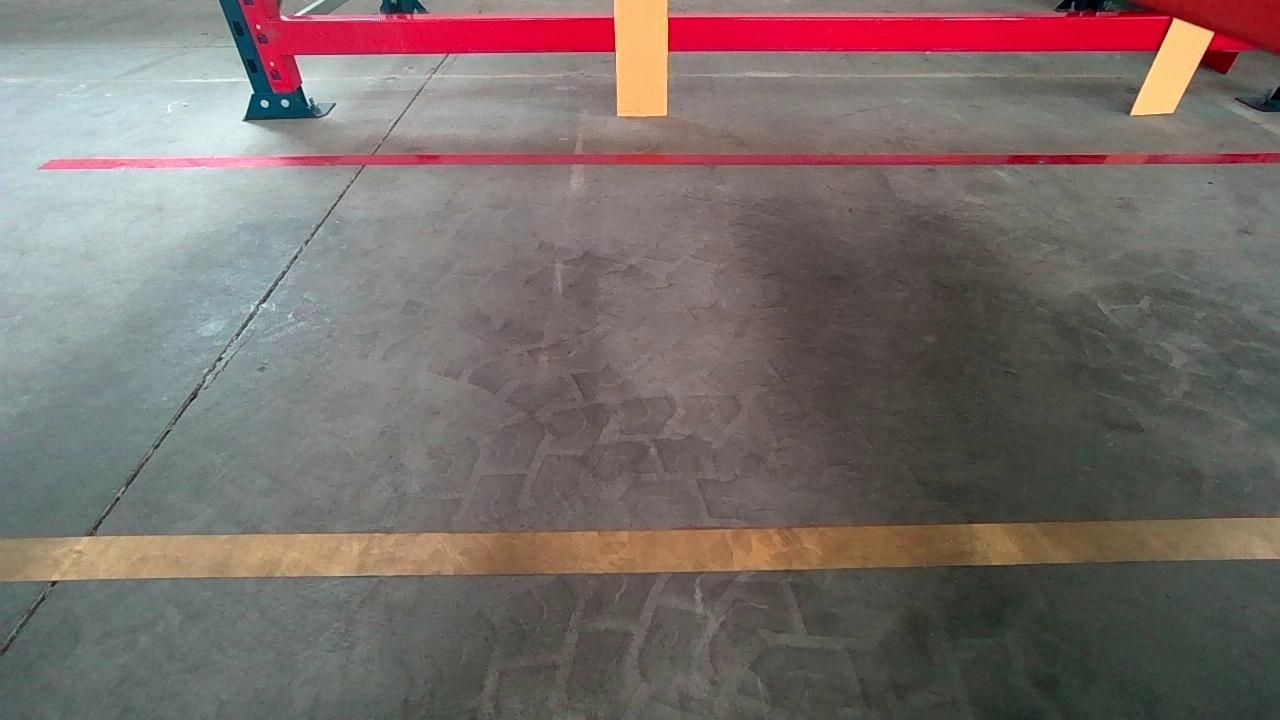h_rack: (287, 17, 1273, 49)
orange_strip: (1132, 17, 1216, 110), (615, 0, 669, 114)
red_line: (40, 153, 1280, 170)
yellow_line: (2, 516, 1271, 585)
